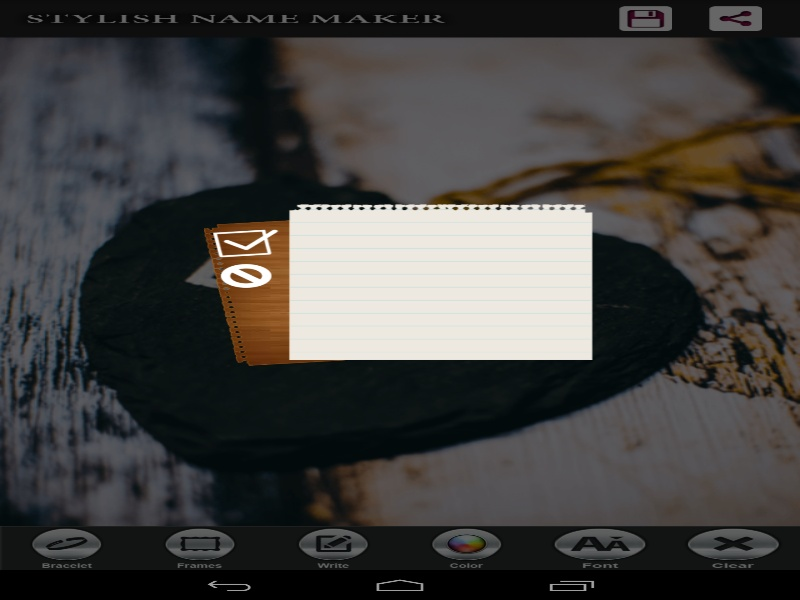Input: (304, 211, 596, 358)
